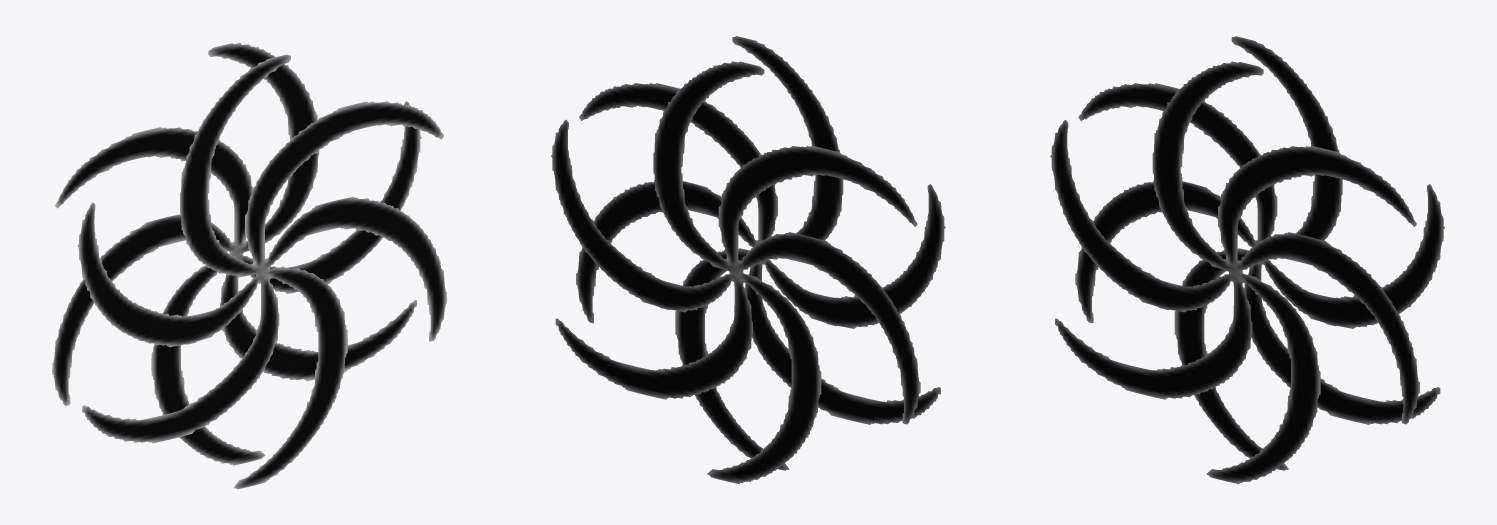
The model's file is Miniscene6_Emptiness Swirl Token.fbx.
3 views of the same model, side by side, from view 1: azimuth 30°, elevation 25°; view 2: azimuth 150°, elevation 25°; view 3: azimuth 330°, elevation 25° (orthographic).
Parts seen in each view (by area): view 1: Model; view 2: Model; view 3: Model.
Boxes of the visible parts, x1,y1,x2,y2 form: Model: (52, 43, 447, 489); Model: (551, 36, 945, 483); Model: (1050, 36, 1444, 483).
Bounding box in the file's own units: 64.37 × 64.37 × 6.31.
